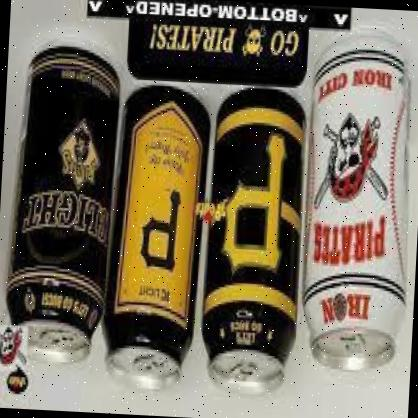can: (296, 19, 418, 378), (3, 50, 117, 376), (200, 88, 308, 398), (105, 86, 208, 398)
